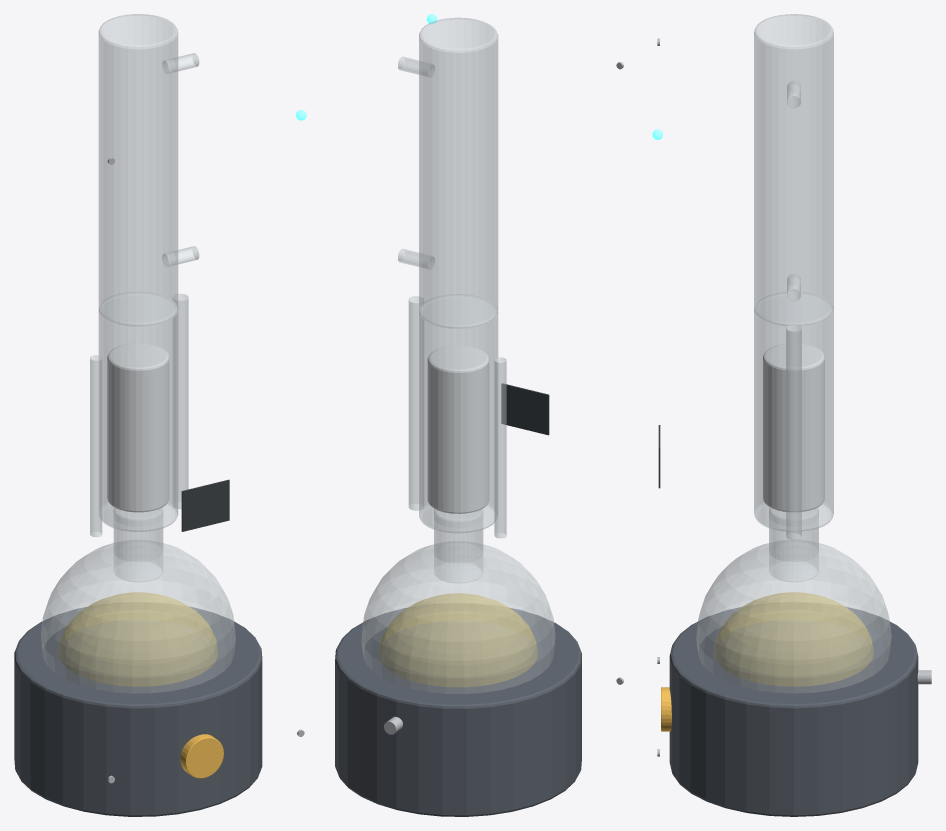
Rendered from SM_SoxhletExtractor.glb.
3 views of the same model, side by side, from view 1: azimuth 30°, elevation 25°; view 2: azimuth 150°, elevation 25°; view 3: azimuth 270°, elevation 25° (orthographic).
Visible parts, largest first — view 1: Soxhlet_HeatingMantle, Soxhlet_Condenser, Soxhlet_BoilingFlask, Soxhlet_ExtractionChamber, Soxhlet_SolventLiquid, Soxhlet_CelluloseThimble, Soxhlet_FlaskNeck, Soxhlet_VaporBypassTube, Soxhlet_SiphonCapillary, Detail_RatingPlate, Soxhlet_MantleDial; view 2: Soxhlet_HeatingMantle, Soxhlet_Condenser, Soxhlet_BoilingFlask, Soxhlet_ExtractionChamber, Soxhlet_SolventLiquid, Soxhlet_CelluloseThimble, Soxhlet_FlaskNeck, Soxhlet_VaporBypassTube, Soxhlet_SiphonCapillary, Detail_RatingPlate; view 3: Soxhlet_HeatingMantle, Soxhlet_Condenser, Soxhlet_BoilingFlask, Soxhlet_ExtractionChamber, Soxhlet_SolventLiquid, Soxhlet_CelluloseThimble, Soxhlet_VaporBypassTube, Soxhlet_FlaskNeck.
Boxes of the visible parts, x1=… form: Soxhlet_HeatingMantle: x1=14, y1=607, x2=262, y2=816; Soxhlet_Condenser: x1=98, y1=14, x2=178, y2=326; Soxhlet_BoilingFlask: x1=41, y1=540, x2=235, y2=693; Soxhlet_ExtractionChamber: x1=98, y1=292, x2=178, y2=531; Soxhlet_SolventLiquid: x1=59, y1=592, x2=217, y2=686; Soxhlet_CelluloseThimble: x1=107, y1=343, x2=169, y2=512; Soxhlet_FlaskNeck: x1=113, y1=508, x2=163, y2=581; Soxhlet_VaporBypassTube: x1=173, y1=293, x2=188, y2=509; Soxhlet_SiphonCapillary: x1=90, y1=355, x2=102, y2=536; Detail_RatingPlate: x1=181, y1=479, x2=229, y2=531; Soxhlet_MantleDial: x1=180, y1=734, x2=223, y2=778; Soxhlet_HeatingMantle: x1=335, y1=608, x2=581, y2=816; Soxhlet_Condenser: x1=419, y1=17, x2=498, y2=328; Soxhlet_BoilingFlask: x1=361, y1=541, x2=555, y2=693; Soxhlet_ExtractionChamber: x1=419, y1=294, x2=498, y2=533; Soxhlet_SolventLiquid: x1=379, y1=593, x2=537, y2=686; Soxhlet_CelluloseThimble: x1=427, y1=345, x2=489, y2=513; Soxhlet_FlaskNeck: x1=434, y1=509, x2=483, y2=583; Soxhlet_VaporBypassTube: x1=408, y1=296, x2=423, y2=510; Soxhlet_SiphonCapillary: x1=494, y1=357, x2=506, y2=538; Detail_RatingPlate: x1=501, y1=383, x2=549, y2=435; Soxhlet_HeatingMantle: x1=669, y1=607, x2=918, y2=816; Soxhlet_Condenser: x1=754, y1=14, x2=833, y2=326; Soxhlet_BoilingFlask: x1=696, y1=540, x2=891, y2=693; Soxhlet_ExtractionChamber: x1=754, y1=292, x2=833, y2=531; Soxhlet_SolventLiquid: x1=714, y1=592, x2=873, y2=686; Soxhlet_CelluloseThimble: x1=763, y1=343, x2=824, y2=511; Soxhlet_VaporBypassTube: x1=786, y1=324, x2=801, y2=539; Soxhlet_FlaskNeck: x1=769, y1=507, x2=818, y2=581.
Bounding box in the file's own units: 0.28 × 0.915 × 0.3145.
